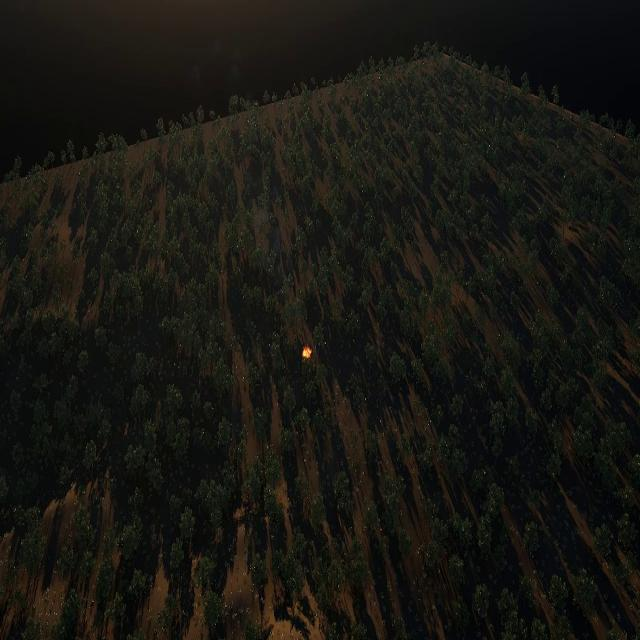fire: (303, 346, 313, 360)
